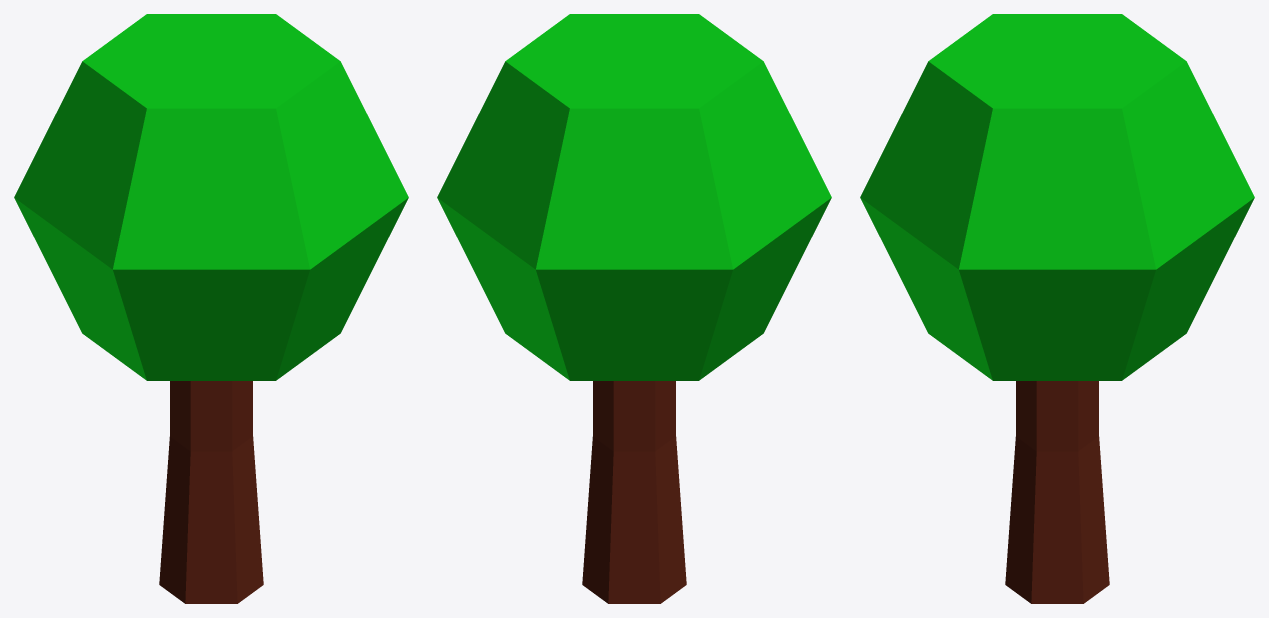
File: tree_a_green.obj
The picture shows the model from 3 angles, left to right: view 1: azimuth 30°, elevation 25°; view 2: azimuth 150°, elevation 25°; view 3: azimuth 270°, elevation 25°; orthographic projection.
Visible parts, largest first — view 1: treetop_a_green_Cylinder.001, trunk_a_green_Cylinder; view 2: treetop_a_green_Cylinder.001, trunk_a_green_Cylinder; view 3: treetop_a_green_Cylinder.001, trunk_a_green_Cylinder.
Boxes of the visible parts, x1,y1,x2,y2 form: treetop_a_green_Cylinder.001: [14, 14, 408, 380]; trunk_a_green_Cylinder: [159, 381, 263, 603]; treetop_a_green_Cylinder.001: [437, 14, 831, 380]; trunk_a_green_Cylinder: [582, 381, 686, 603]; treetop_a_green_Cylinder.001: [860, 14, 1254, 380]; trunk_a_green_Cylinder: [1005, 381, 1109, 603].
Size of the model in its own units: 6.55 by 11.06 by 7.56.
